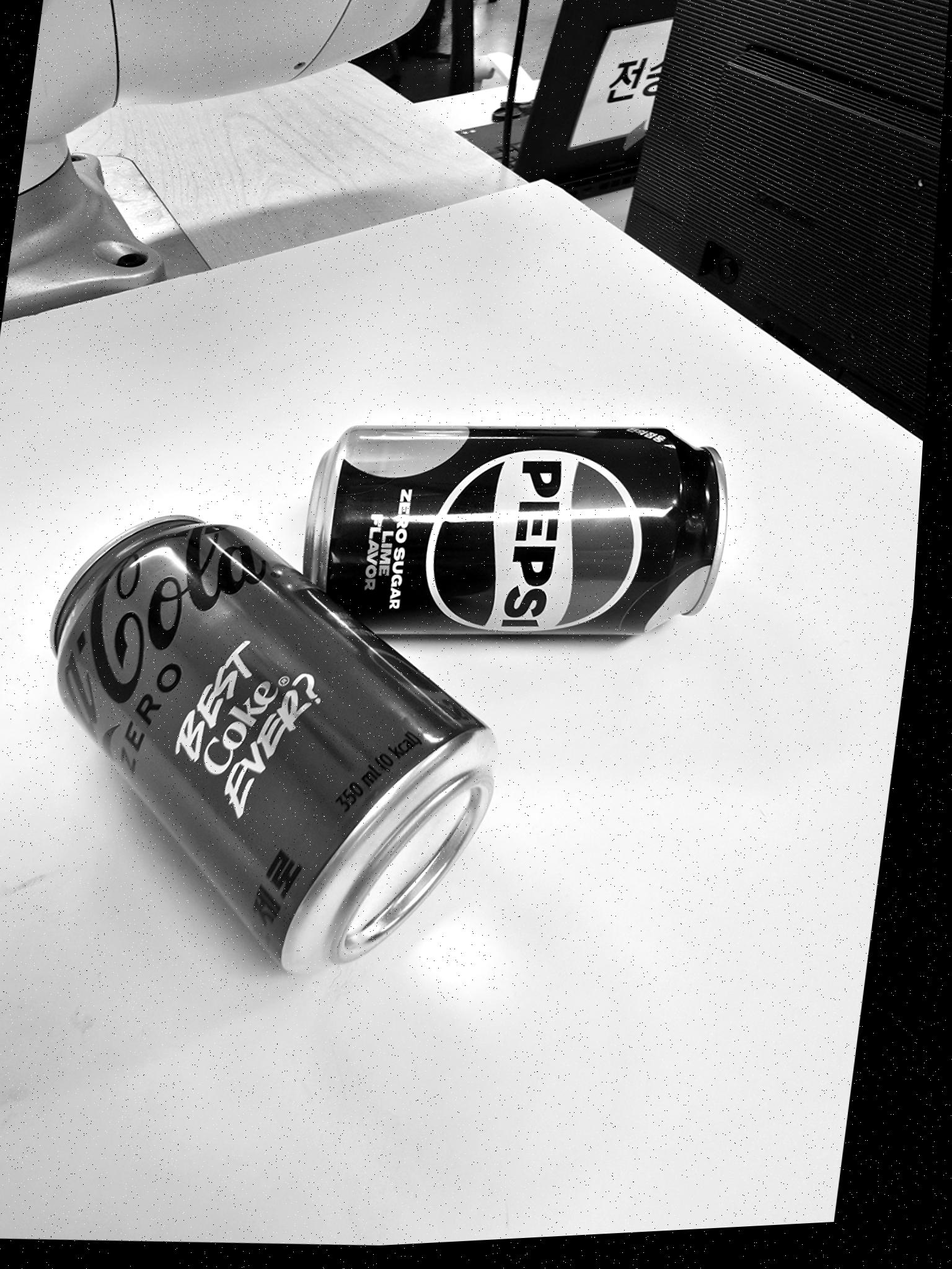can_coke_zero: (51, 512, 485, 971)
can_pepsi_zero: (306, 411, 720, 638)
